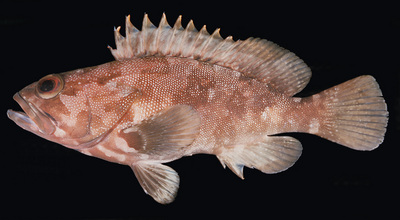fish: (6, 11, 390, 205)
